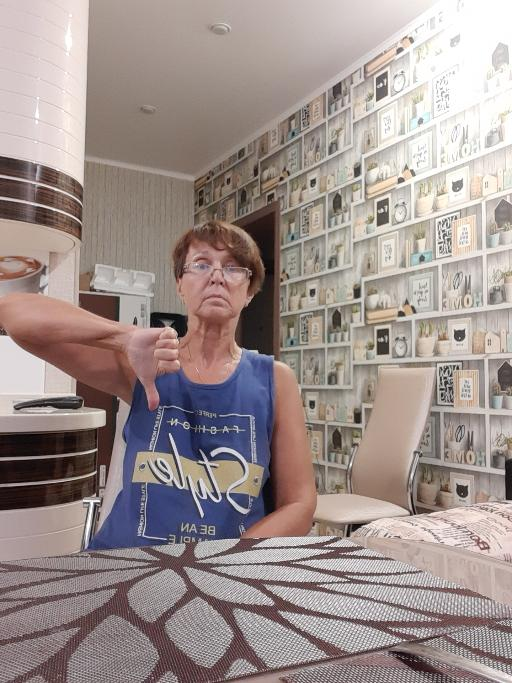dislike: (123, 322, 183, 413)
